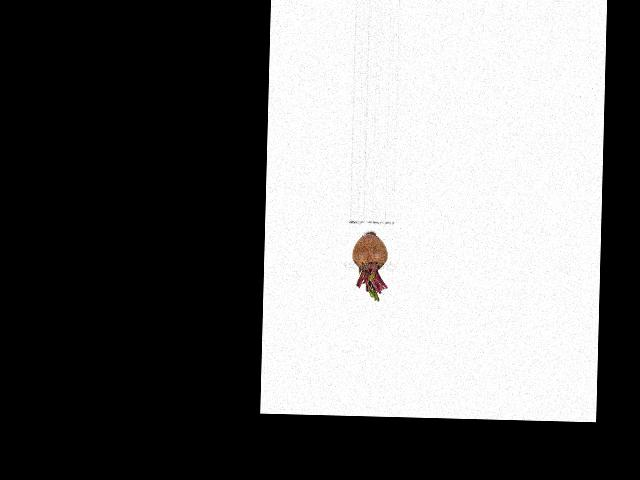beet: (350, 231, 388, 301)
